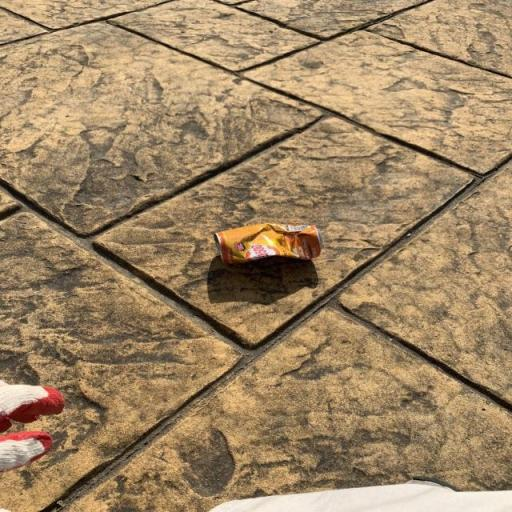metal: (182, 218, 348, 277)
